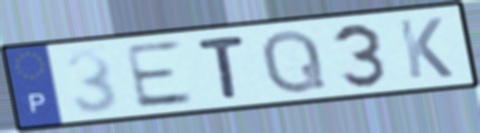3: (329, 19, 391, 90), (64, 47, 121, 116)
E: (121, 38, 198, 111)
K: (395, 15, 457, 81)
Q: (259, 27, 330, 97)
T: (193, 33, 249, 100)
